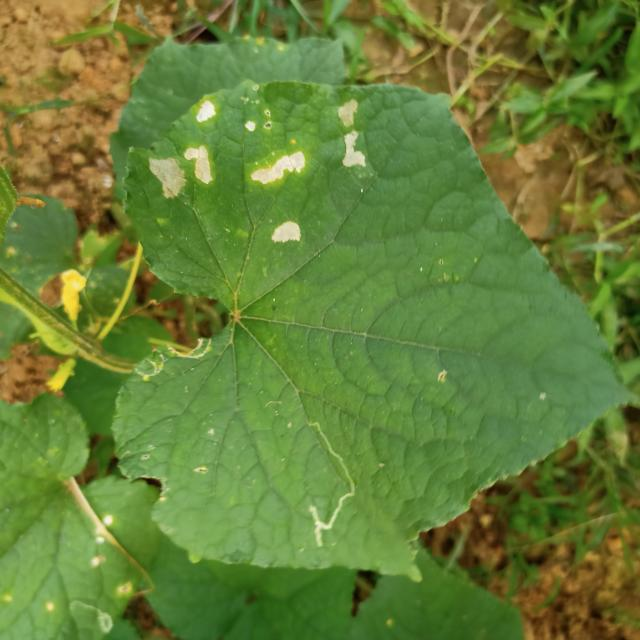disease_cucumber: (146, 95, 308, 198), (332, 92, 370, 174), (268, 216, 306, 250)
